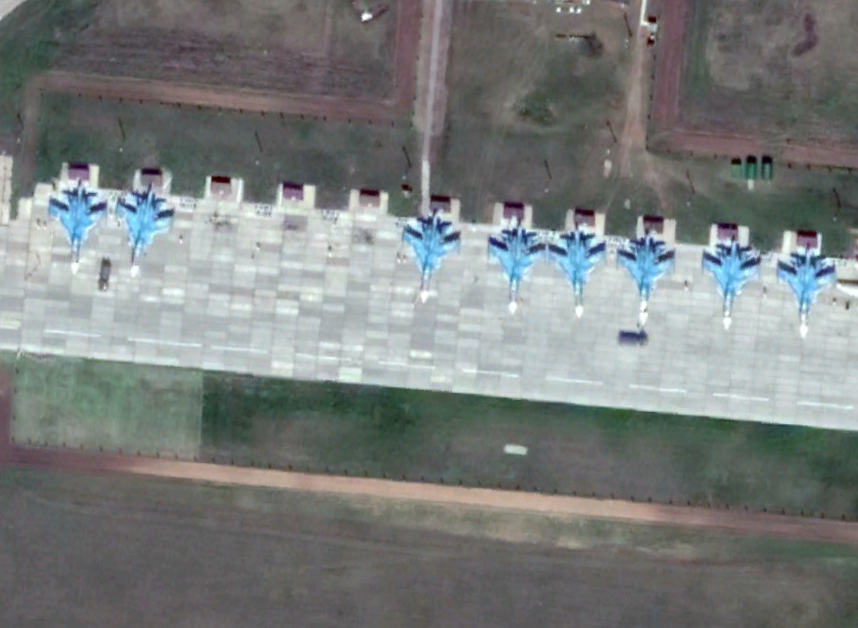A19: (698, 230, 766, 332), (774, 235, 842, 337), (42, 175, 114, 271), (110, 173, 182, 269), (394, 197, 466, 293), (477, 216, 549, 312), (544, 214, 616, 310), (609, 227, 681, 323)
